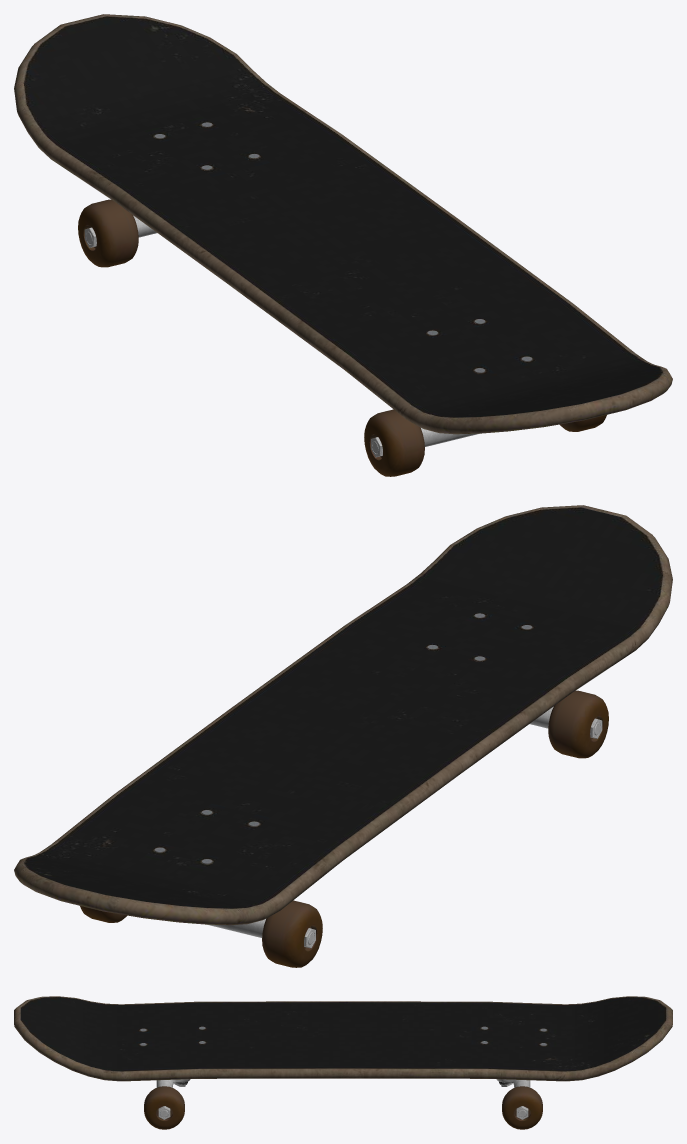
The model's file is board.glb.
The picture shows the model from 3 angles, top to bottom: view 1: azimuth 30°, elevation 25°; view 2: azimuth 150°, elevation 25°; view 3: azimuth 270°, elevation 25°; orthographic projection. The views are drawn at different scales.
Parts seen in each view (by area): view 1: Board; view 2: Board; view 3: Board.
Boxes of the visible parts, x1,y1,x2,y2 form: Board: (14,14,672,476); Board: (14,505,672,967); Board: (14,996,672,1129).
Size of the model in its own units: 0.1944 by 0.1081 by 0.7597.
Materials: 1 (1 with a texture image).
